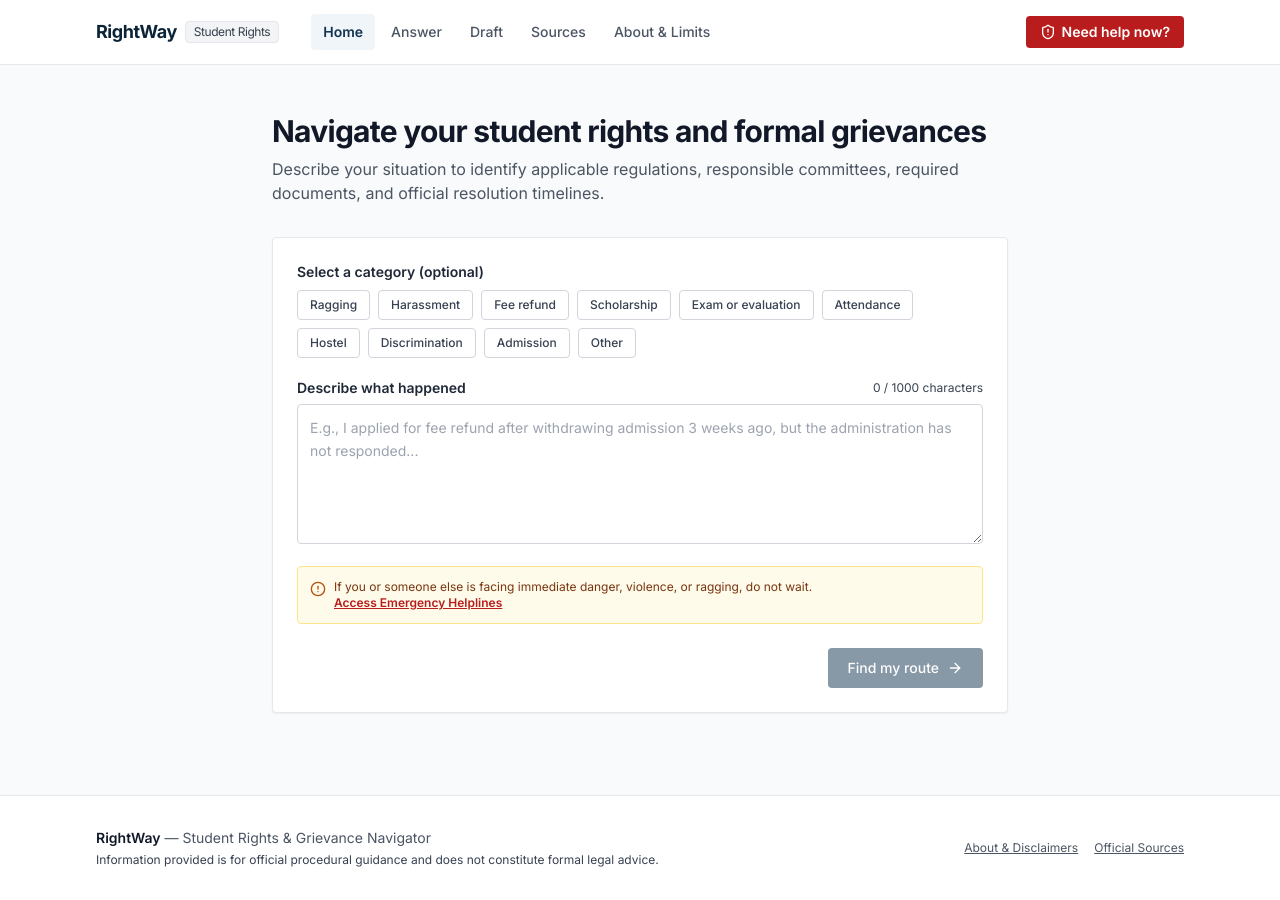
Test case: Step 1: App Shell and Emergency Panel › opens emergency panel with contacts from getEmergency
Click the button "Need help now?" at (1105, 32), box [1026,16,1184,48]
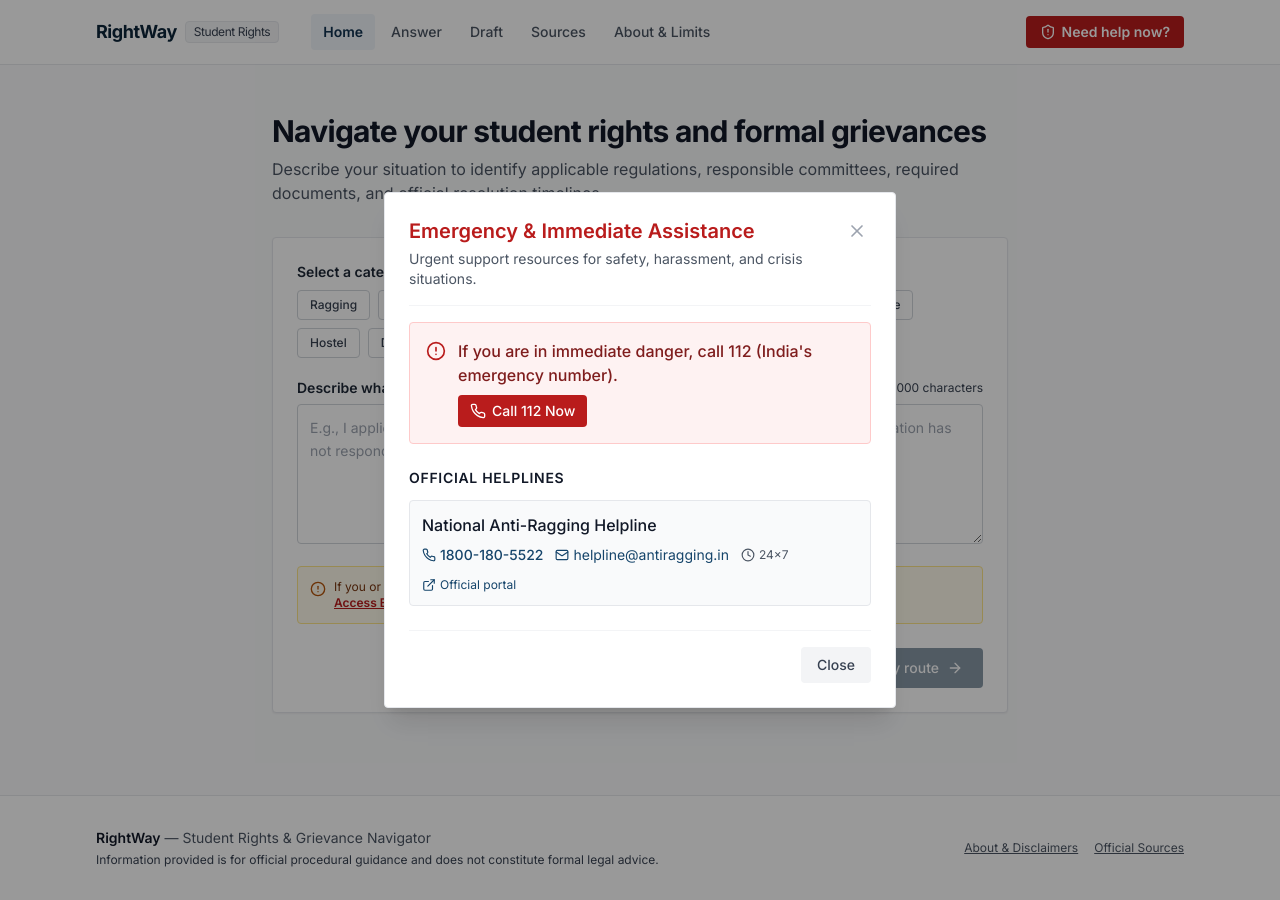
expect the dialog is shown: met
expect the text "If you are in immediate danger" is shown: met, box [458,341,812,385]
expect the link "Call 112 Now" is shown: met, box [458,395,587,427]
Note: Close modal
Click the button named "Close emergency panel" at (857, 231), box [843,217,871,245]
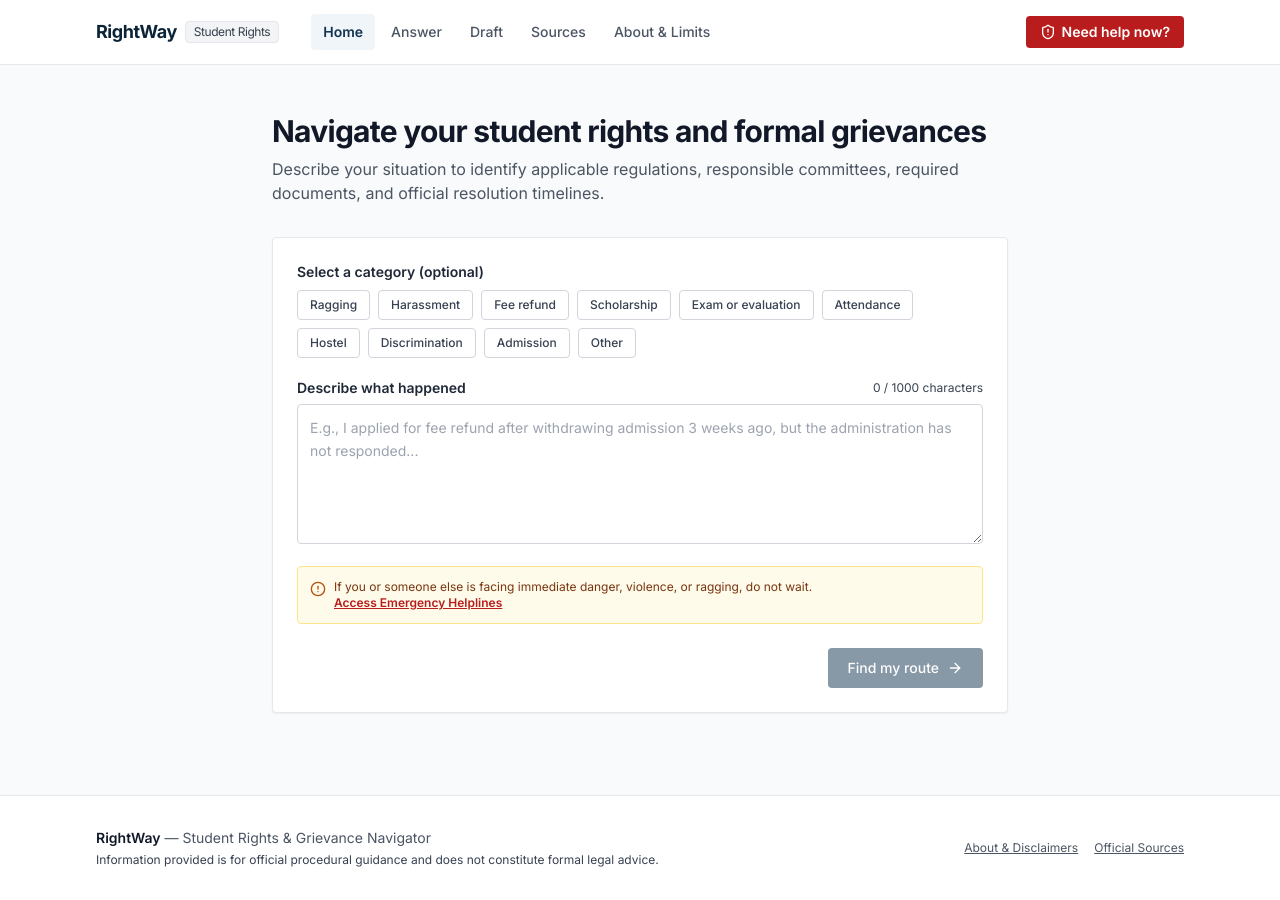
expect the dialog is gone: met
